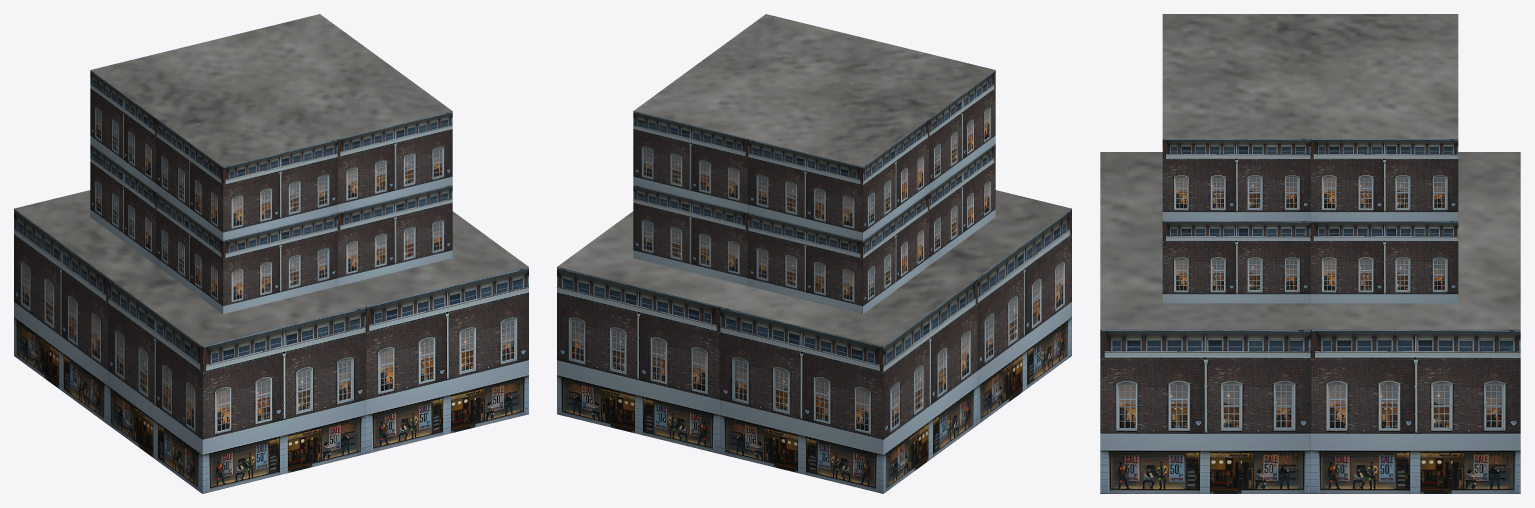
File: Building073.fbx
3 views of the same model, side by side, from view 1: azimuth 30°, elevation 25°; view 2: azimuth 150°, elevation 25°; view 3: azimuth 270°, elevation 25° (orthographic). The views are drawn at different scales.
Visible parts, largest first — view 1: Building073; view 2: Building073; view 3: Building073.
Part boxes in pixels (x1,y1,x2,y2): Building073: [14, 14, 528, 493]; Building073: [557, 14, 1071, 493]; Building073: [1100, 14, 1520, 493].
Size of the model in its own units: 26.07 by 22.49 by 26.07.
